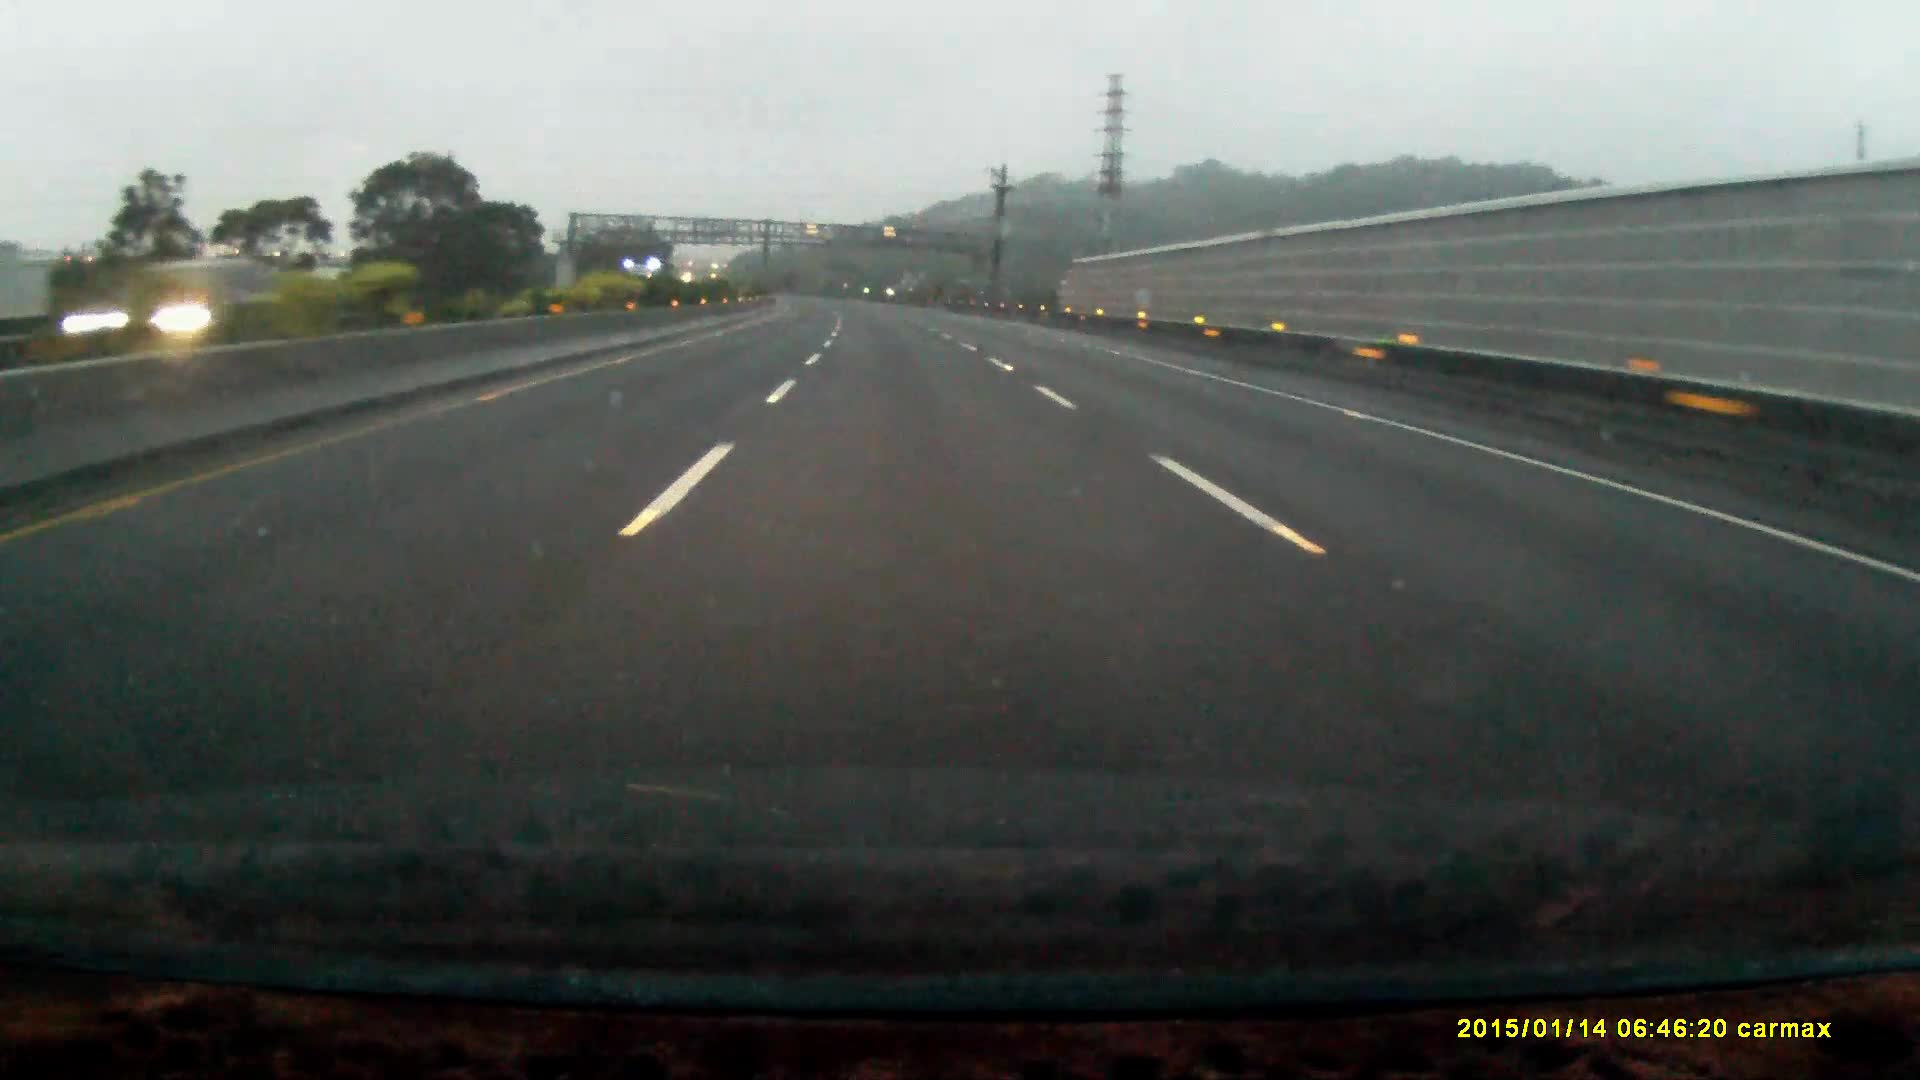vehicle: (626, 262, 671, 309)
